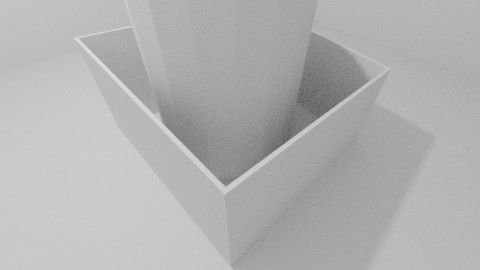cheminee: (124, 1, 318, 182)
eaf: (226, 69, 387, 262)
